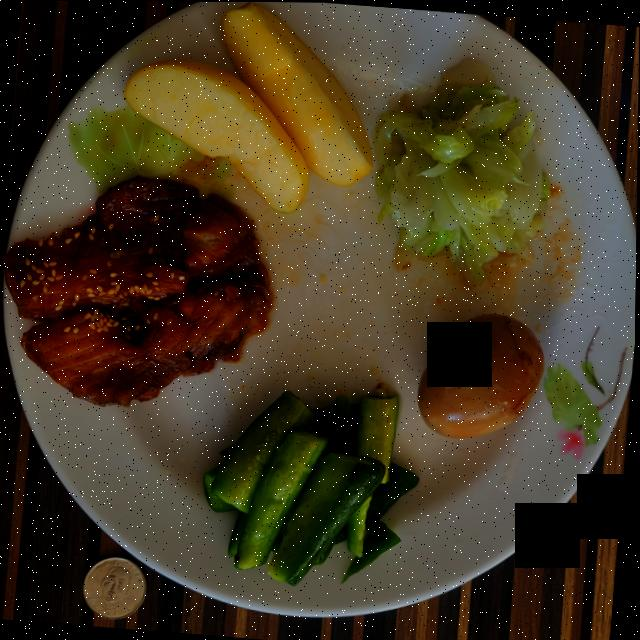Kabayaki sea bream fillet: (3, 176, 272, 404)
apple -sliced-: (125, 1, 373, 211)
cabbage: (375, 57, 550, 283)
coin: (84, 556, 148, 620)
cucumber: (205, 391, 419, 584)
soy egg: (419, 312, 545, 437)
